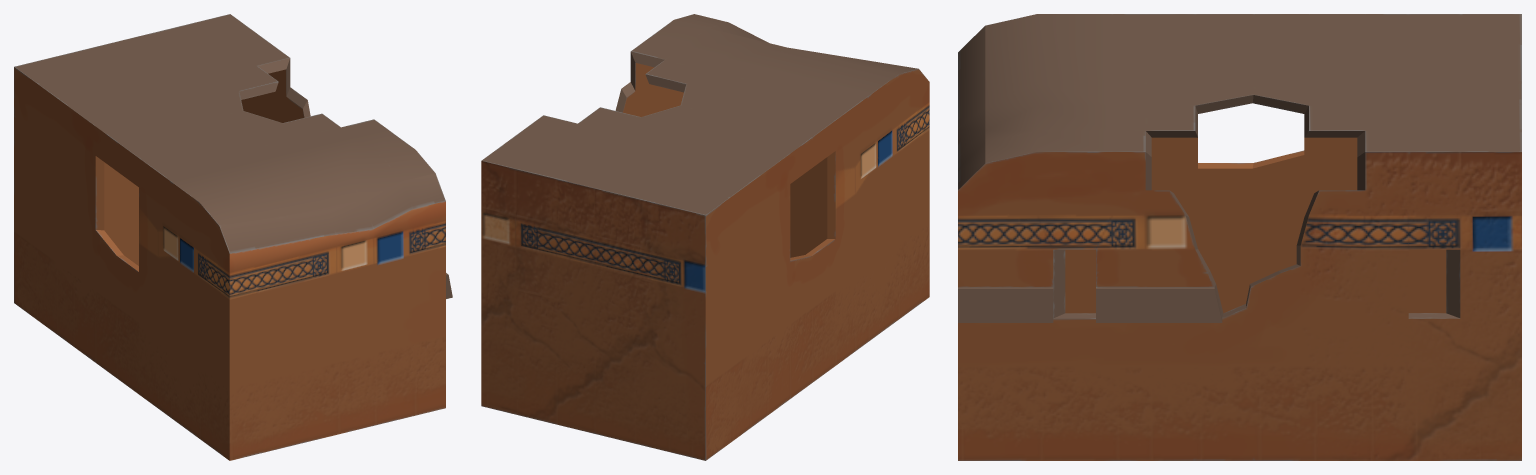
The model's file is Building08.fbx.
3 renders of one model, left to right at view 1: azimuth 30°, elevation 25°; view 2: azimuth 150°, elevation 25°; view 3: azimuth 270°, elevation 25°, orthographic. The views are drawn at different scales.
Visible parts, largest first — view 1: polySurface601; view 2: polySurface601; view 3: polySurface601.
Part boxes in pixels (x1,y1,x2,y2): polySurface601: [14, 14, 452, 460]; polySurface601: [481, 14, 929, 460]; polySurface601: [958, 14, 1521, 460].
Bounding box in the file's own units: 59.08 × 59.81 × 98.9.
